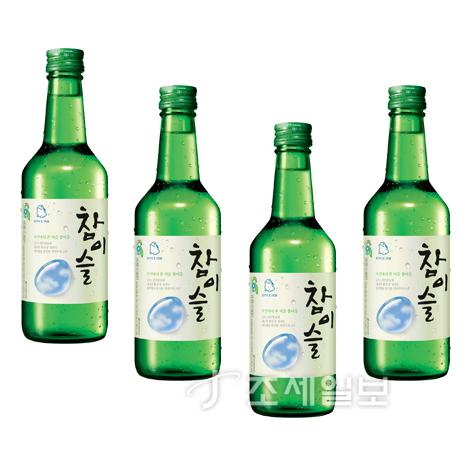soju: (130, 79, 224, 385), (248, 118, 340, 423), (362, 83, 452, 383), (22, 46, 110, 347)
